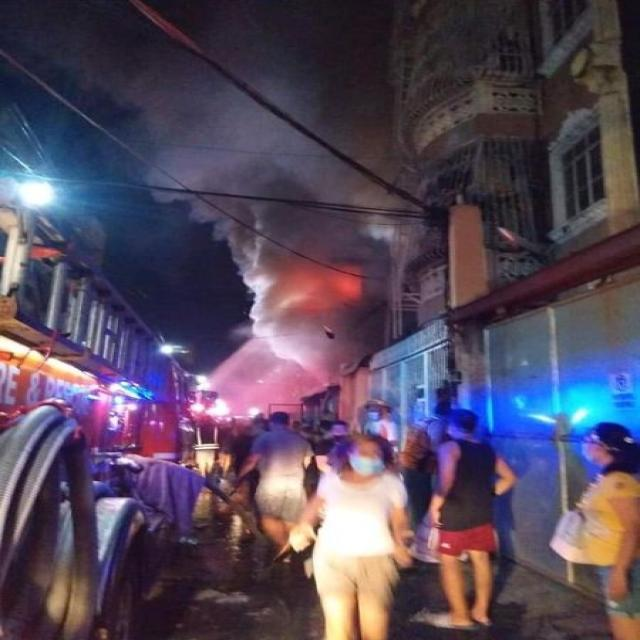Fire: (274, 243, 378, 310)
Smoke: (61, 2, 382, 202), (217, 195, 386, 366)
